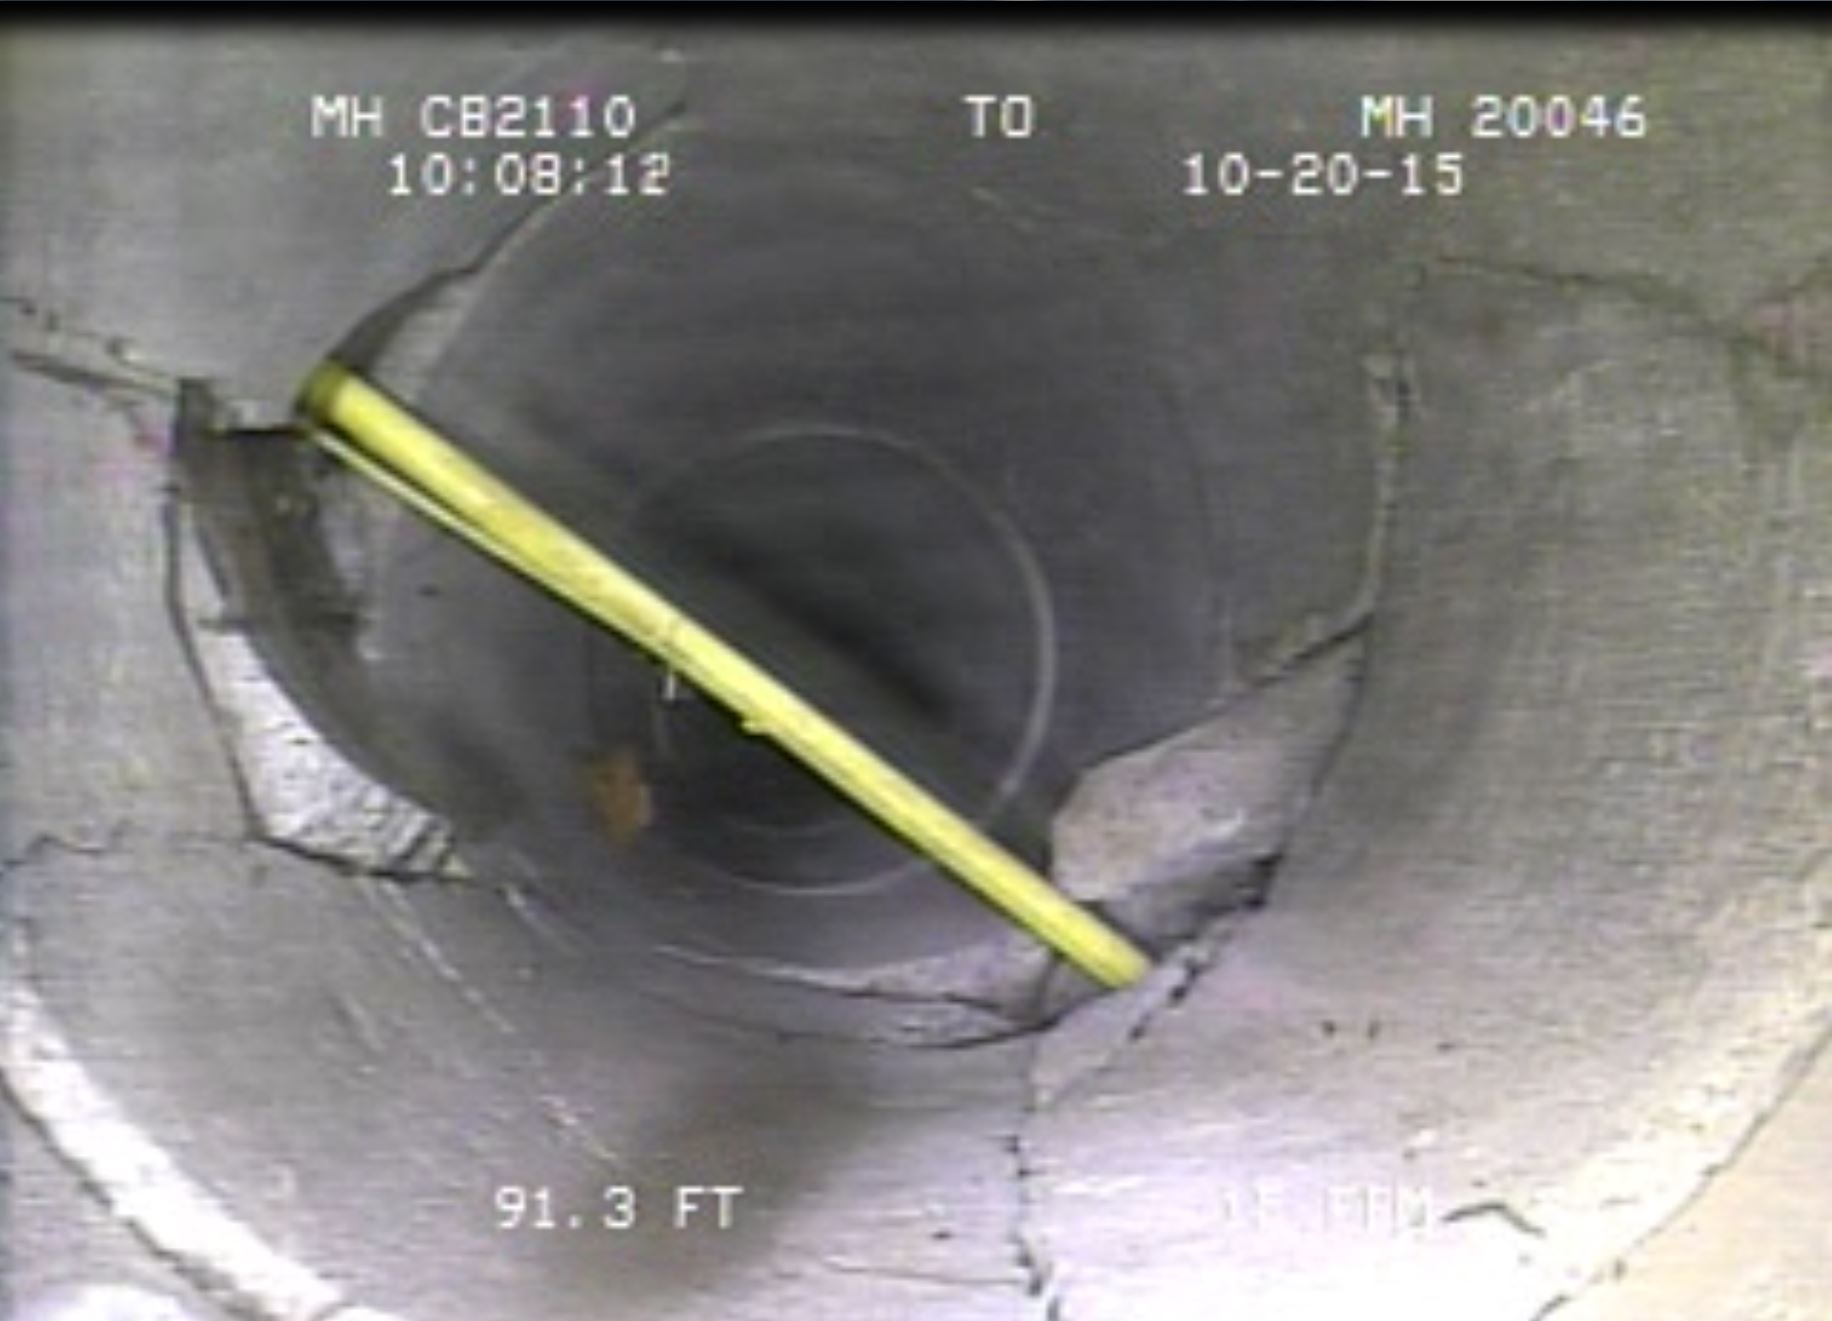cb: (265, 320, 1240, 1014)
